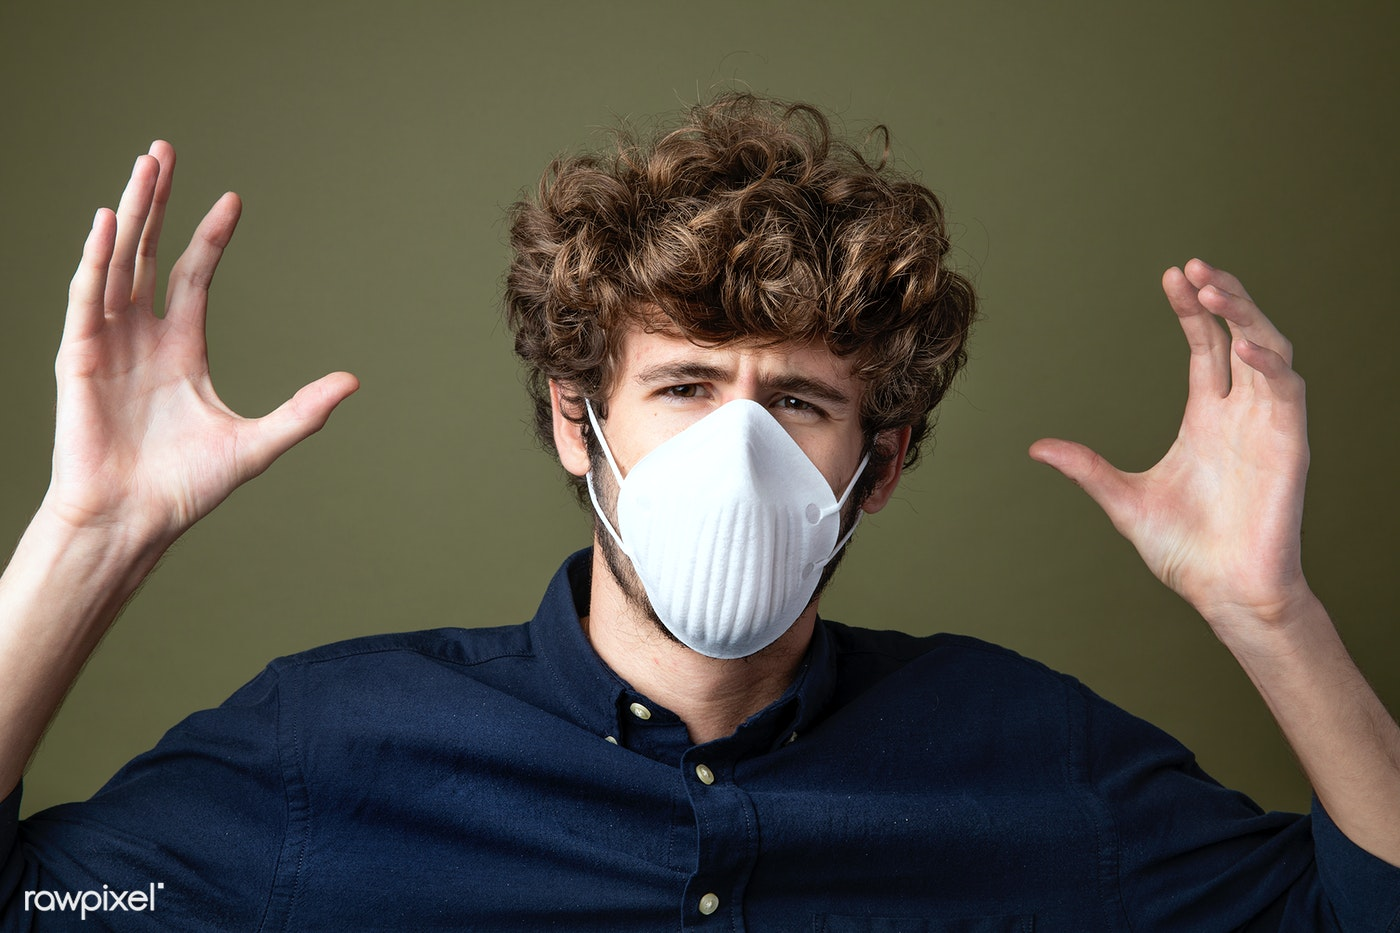n95: (609, 394, 841, 666)
